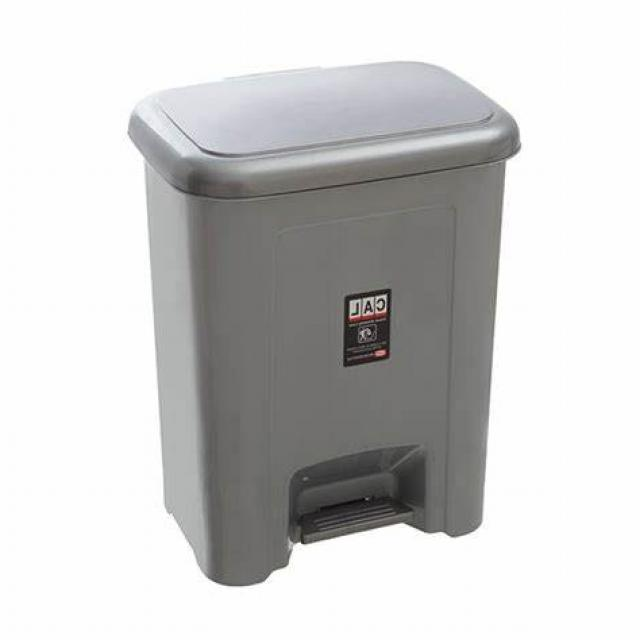garbage container: (119, 47, 534, 624)
